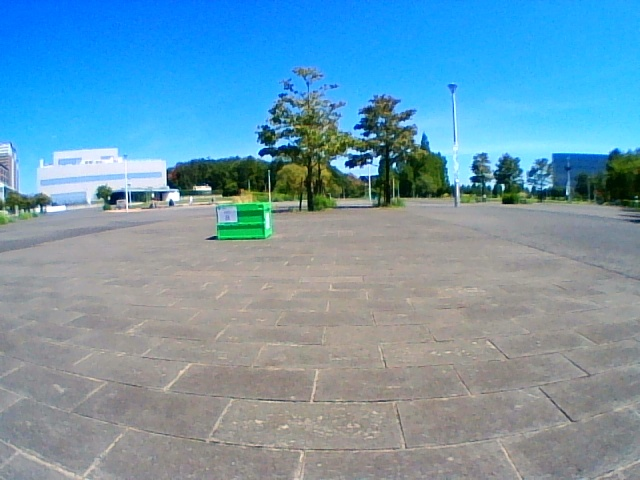green_box: (217, 202, 272, 239)
tag: (218, 207, 236, 223)
